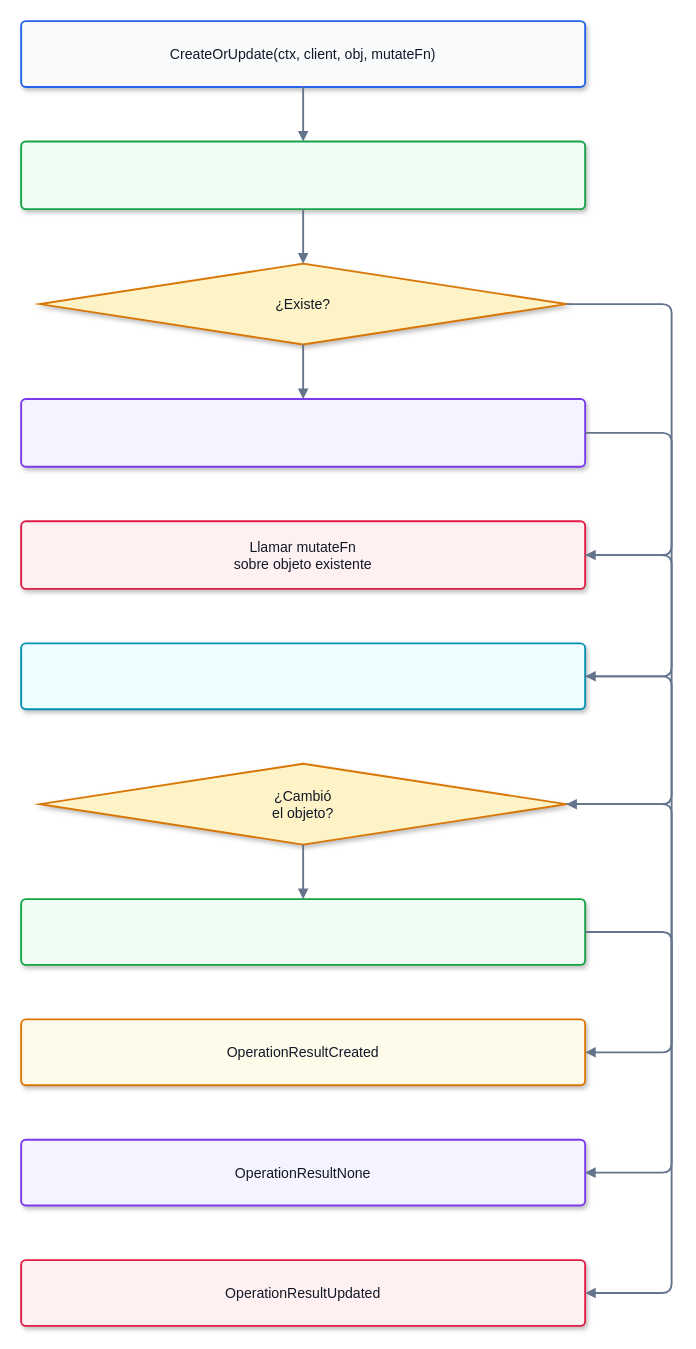
Image size: 696x1349. Some labels were removed from this diagram. The shapes that lost their labels are listed below. From the top down, each one's centre as x and y in pixels, then its label:
At (x=303, y=176): "Get del objeto desde el API server".
At (x=303, y=434): "Llamar mutateFn sobre objeto vacío".
At (x=303, y=677): "Create".
At (x=303, y=933): "Update / Patch".
